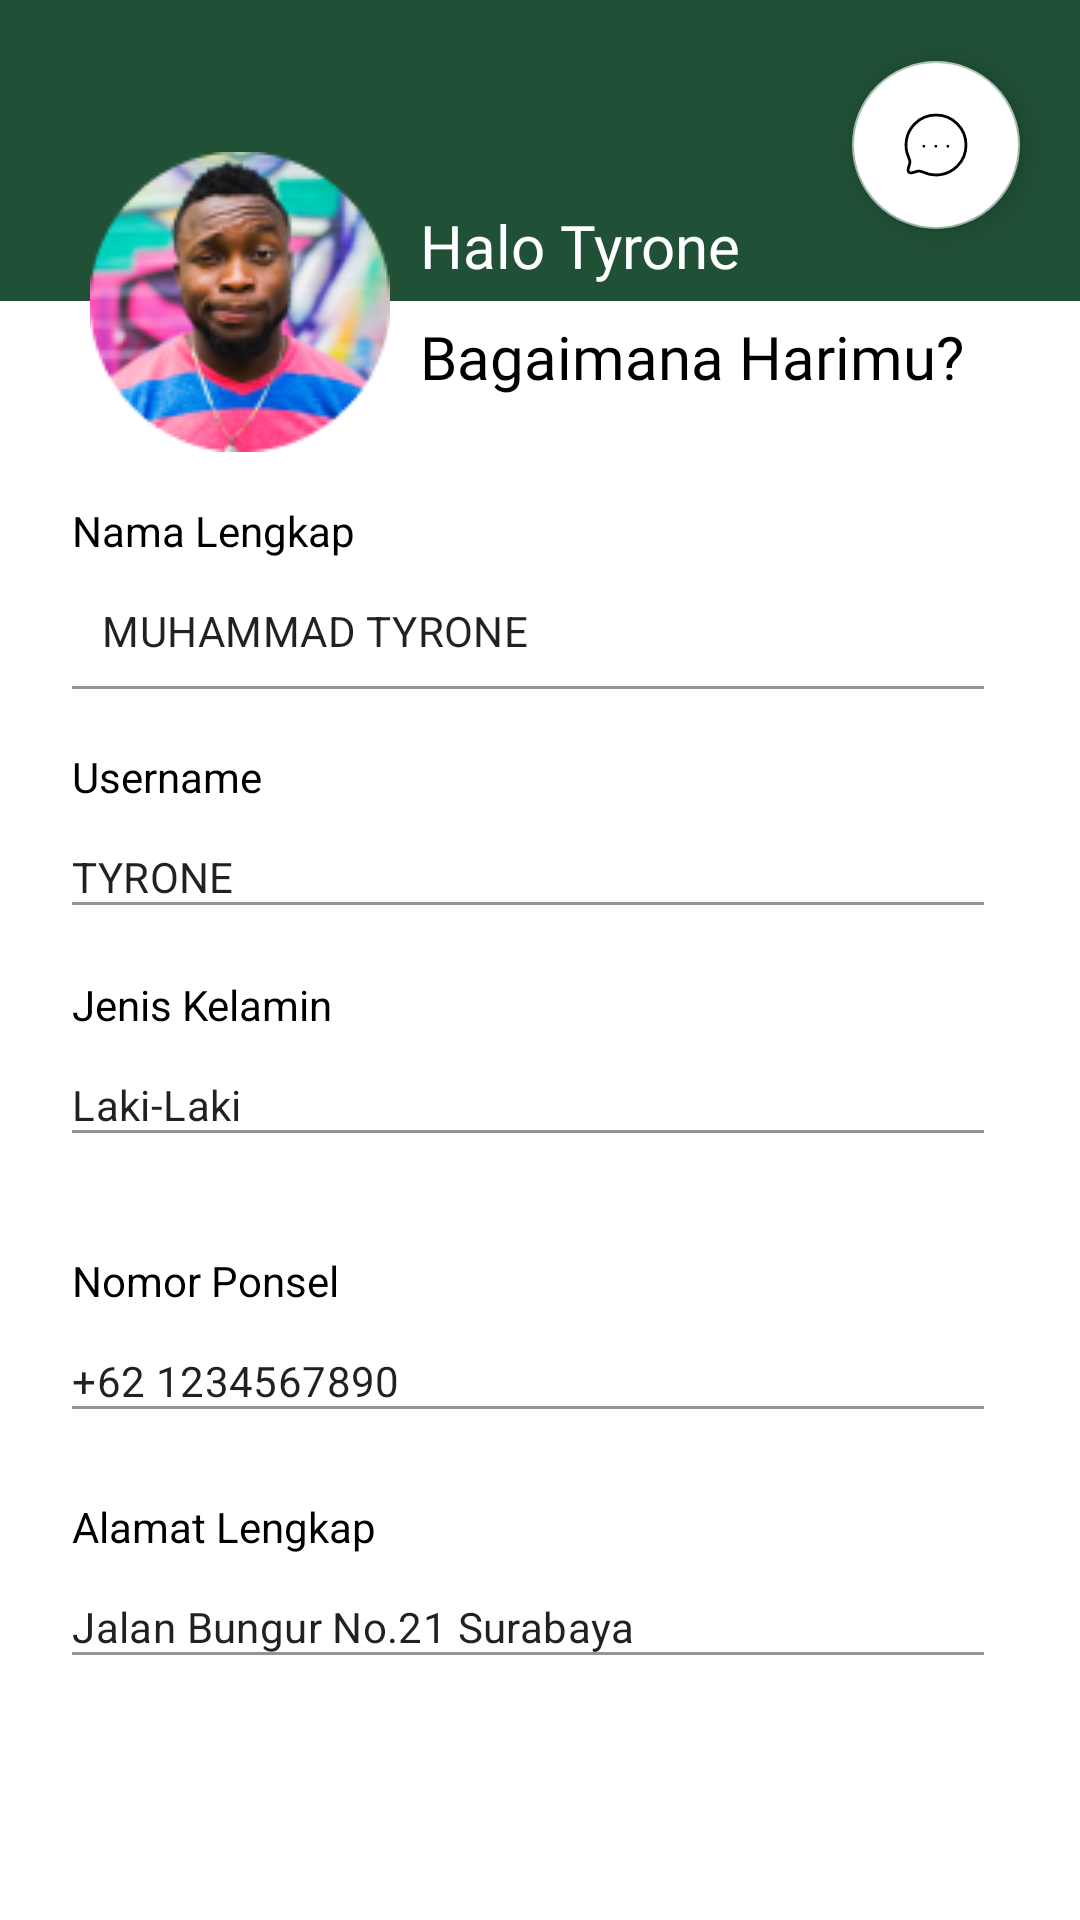

Screen size 1080px x 1920px. Icon name, then its center in pixels as (x=x, y=y):
chat: (x=936, y=145)
